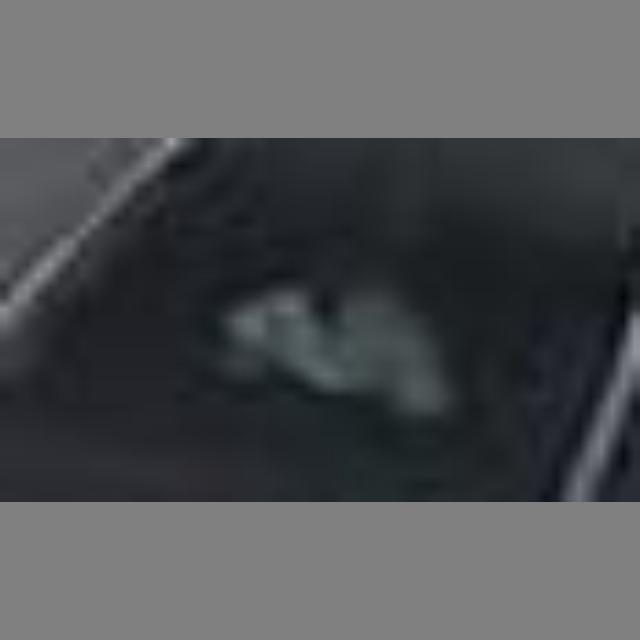tidak-pakai: (221, 237, 452, 436)
